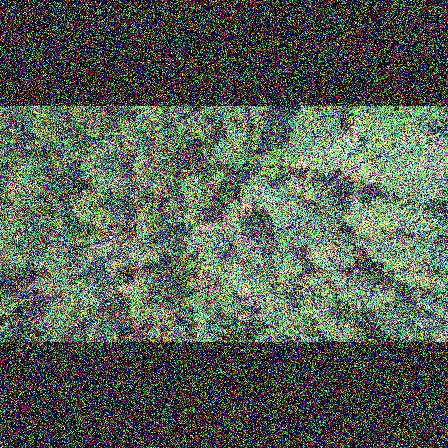Dead: (96, 246, 133, 272)
